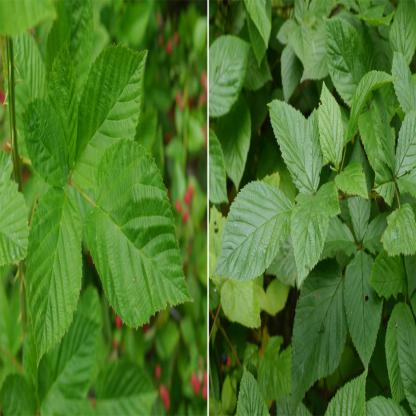raspberry leaf: (81, 144, 195, 330), (24, 184, 83, 366), (291, 252, 349, 399), (213, 182, 294, 286), (77, 43, 148, 161), (262, 98, 324, 200), (340, 243, 381, 371), (287, 186, 334, 295), (319, 79, 345, 172)
